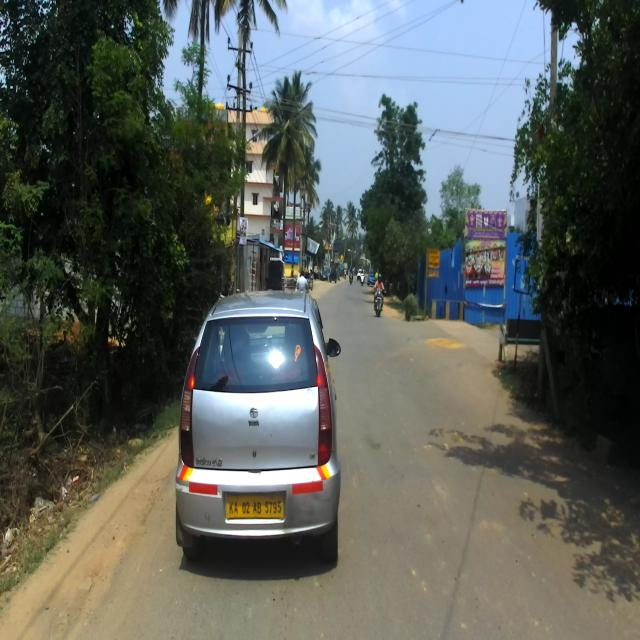car ahead at: (174, 289, 343, 557)
